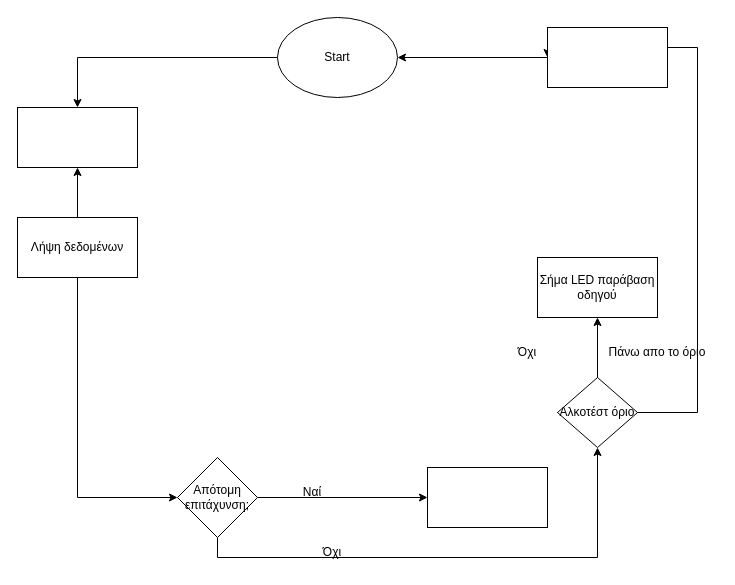
The diagram is 735 pixels wide and 585 high, and some of its shapes have lost their labels. The shapes that lost their labels are listed below. From the top down, each one's box as (x1, y1, x2, y2) in pixels, then its label:
(546, 26, 668, 88): Αποστολή συντεταγμένων
(16, 106, 138, 168): Ενεργοποίηση αισθητήρων
(426, 466, 548, 528): Ειδοποίηση ατυχήματος MQTT alert
